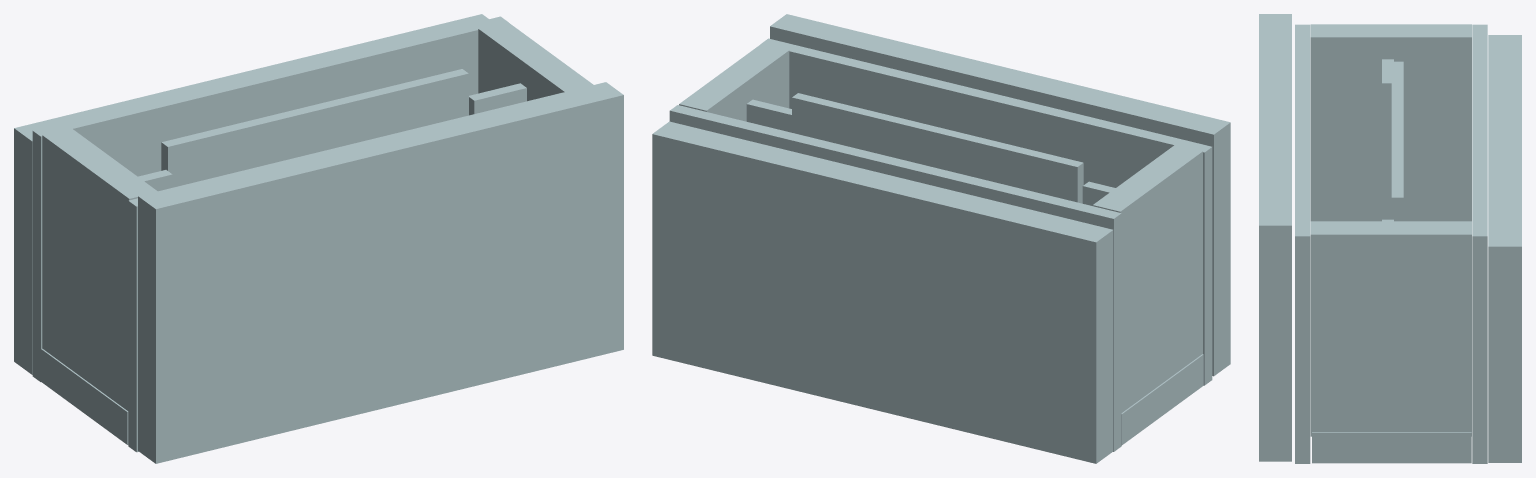
Rendered from kitchenstove_collision.obj.
3 views of the same model, side by side, from view 1: azimuth 30°, elevation 25°; view 2: azimuth 150°, elevation 25°; view 3: azimuth 270°, elevation 25° (orthographic). The views are drawn at different scales.
Visible parts, largest first — view 1: oven1.001_ID11.000, oven1.001_ID11.009, oven1.001_ID11.007, oven1.001_ID11.006, oven1.001_ID11.002, oven1.001_ID11.003, oven1.001_ID11.008, oven1.001_ID11.001, oven1.001_ID11.004; view 2: oven1.001_ID11.002, oven1.001_ID11.001, oven1.001_ID11.007, oven1.001_ID11.000, oven1.001_ID11.006, oven1.001_ID11.009, oven1.001_ID11.003, oven1.001_ID11.008, oven1.001_ID11.004; view 3: oven1.001_ID11.003, oven1.001_ID11.007, oven1.001_ID11.000, oven1.001_ID11.002, oven1.001_ID11.009, oven1.001_ID11.001, oven1.001_ID11.008, oven1.001_ID11.006, oven1.001_ID11.005.
Boxes of the visible parts, box(x1,y1,x2,y2) form: oven1.001_ID11.000: box(138, 82, 623, 463); oven1.001_ID11.009: box(32, 16, 508, 382); oven1.001_ID11.007: box(42, 128, 157, 410); oven1.001_ID11.006: box(161, 69, 468, 187); oven1.001_ID11.002: box(14, 14, 488, 374); oven1.001_ID11.003: box(478, 22, 593, 101); oven1.001_ID11.008: box(41, 348, 128, 444); oven1.001_ID11.001: box(128, 198, 138, 452); oven1.001_ID11.004: box(469, 83, 526, 115); oven1.001_ID11.002: box(652, 121, 1113, 463); oven1.001_ID11.001: box(761, 38, 1212, 385); oven1.001_ID11.007: box(1092, 144, 1202, 412); oven1.001_ID11.000: box(770, 14, 1230, 376); oven1.001_ID11.006: box(792, 93, 1083, 203); oven1.001_ID11.009: box(669, 105, 1121, 451); oven1.001_ID11.003: box(679, 43, 789, 121); oven1.001_ID11.008: box(1121, 354, 1203, 445); oven1.001_ID11.004: box(746, 99, 791, 132); oven1.001_ID11.003: box(1310, 221, 1471, 436); oven1.001_ID11.007: box(1310, 24, 1471, 221); oven1.001_ID11.000: box(1259, 14, 1291, 461); oven1.001_ID11.002: box(1488, 35, 1521, 462); oven1.001_ID11.009: box(1472, 24, 1487, 463); oven1.001_ID11.001: box(1295, 24, 1310, 463); oven1.001_ID11.008: box(1312, 432, 1471, 463); oven1.001_ID11.006: box(1391, 61, 1403, 221); oven1.001_ID11.005: box(1382, 59, 1393, 219).
Size of the model in its own units: 2.75 by 1.44 by 1.44.
